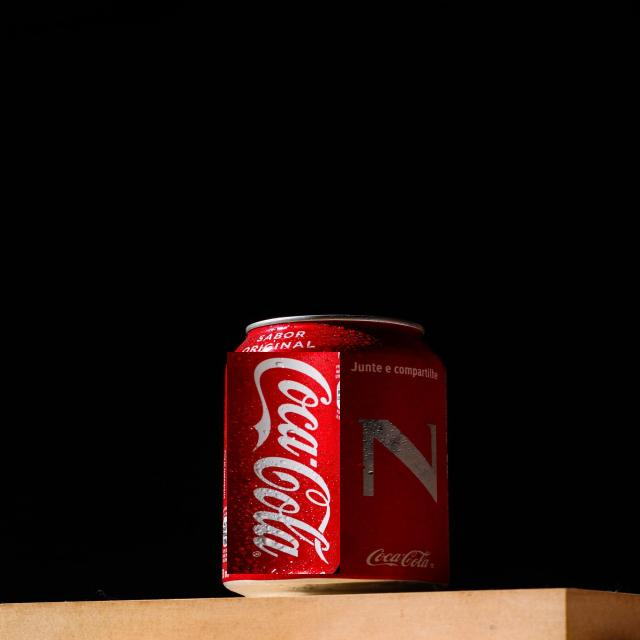coca-cola: (227, 352, 340, 574)
